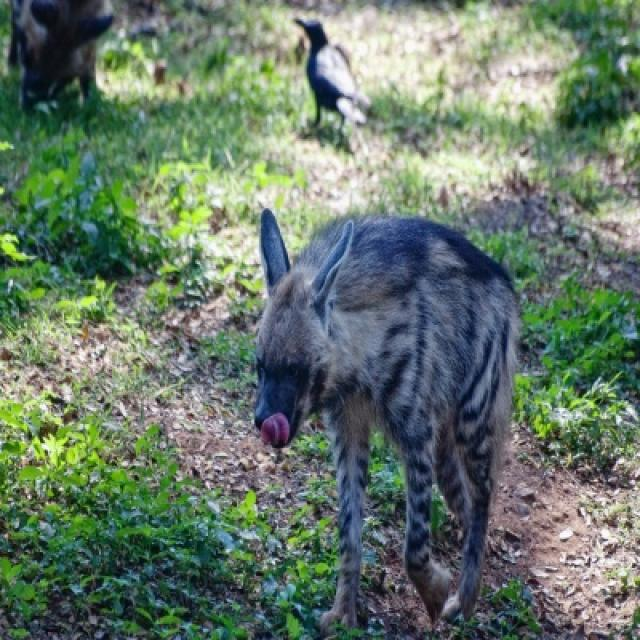hyena: (254, 208, 523, 638)
